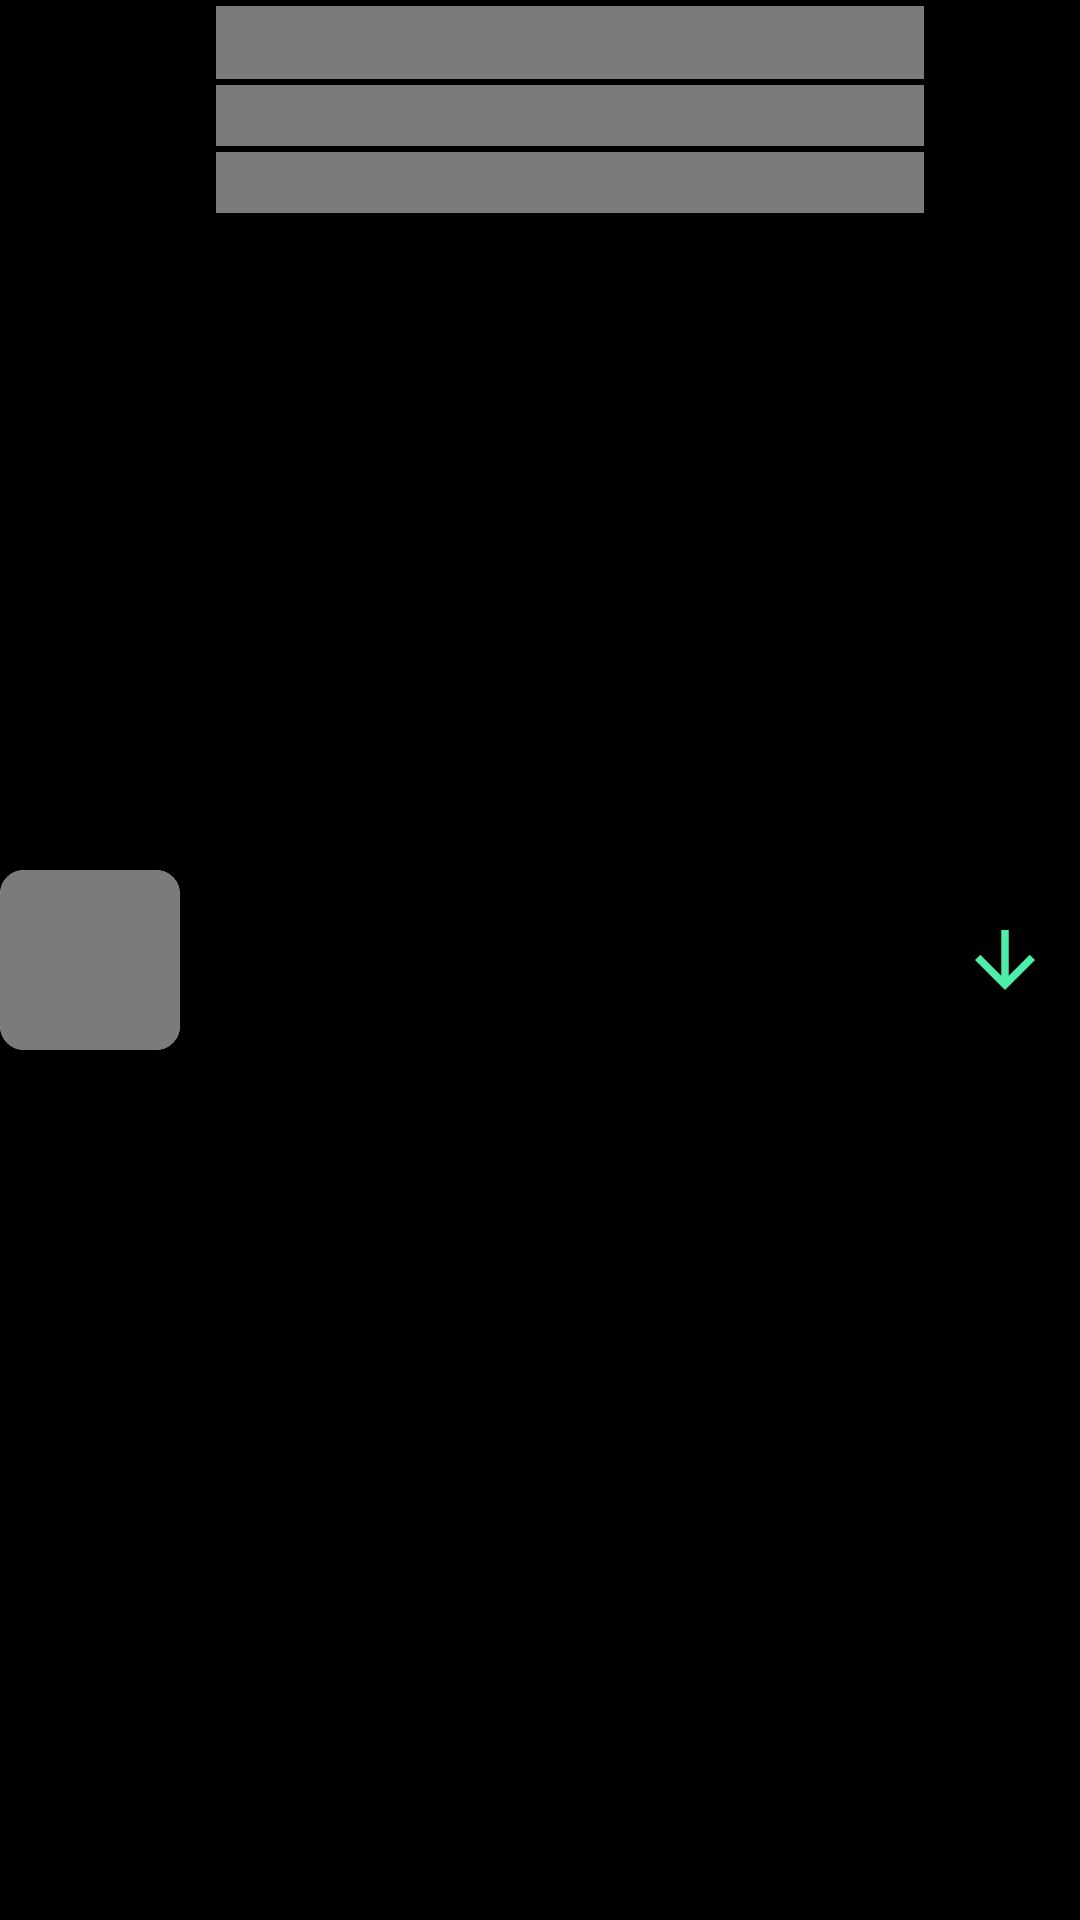

Screen size 1080 x 1920. Icon name, then its center in pixels as (x,y):
arrow down: (1005,960)
